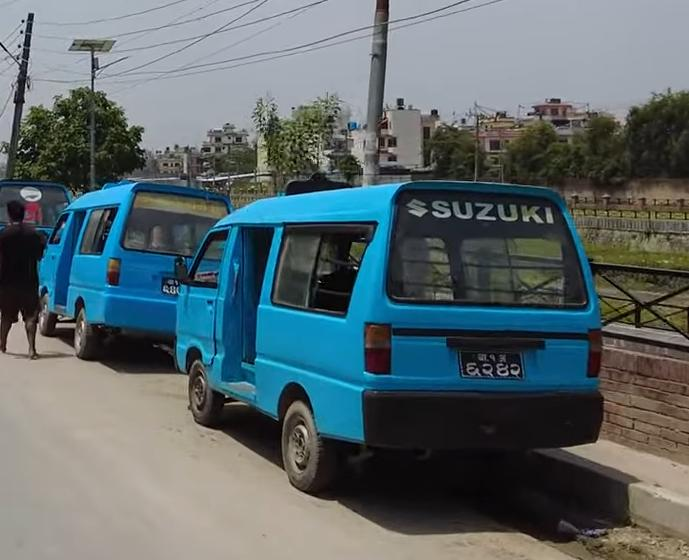van: (172, 172, 614, 497), (29, 175, 257, 355)
